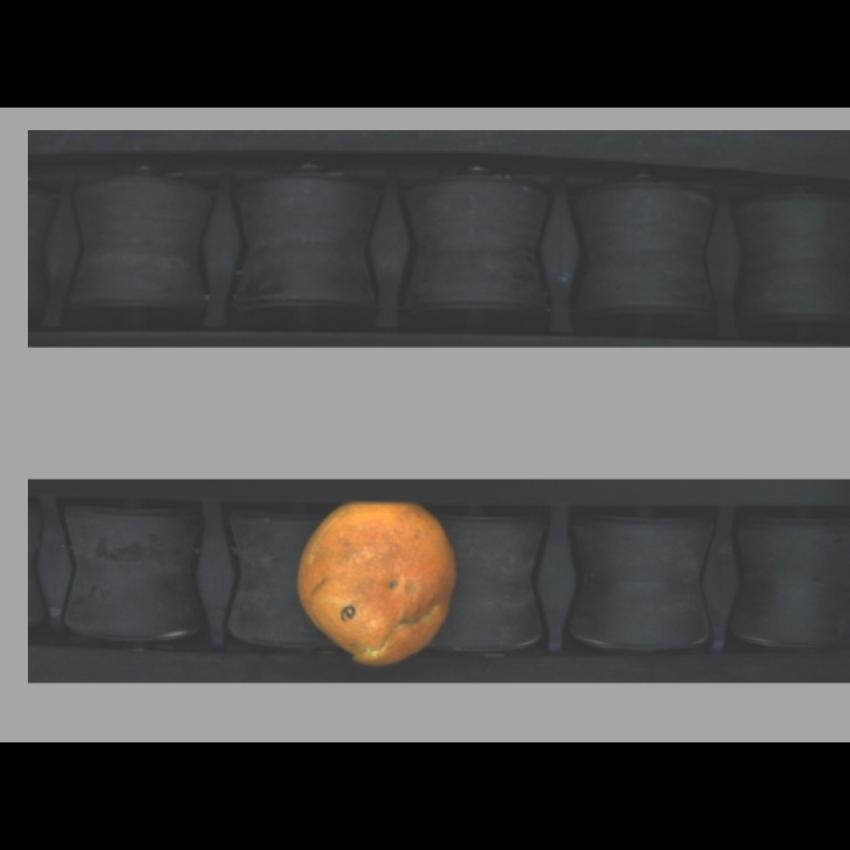Mal estado: (285, 496, 473, 670)
